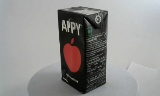appy: (53, 5, 101, 94)
